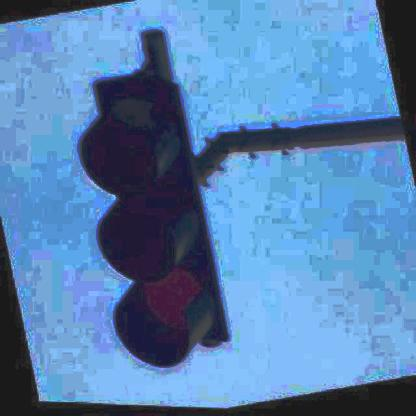Traffic Light -Red-: (64, 67, 233, 379)
